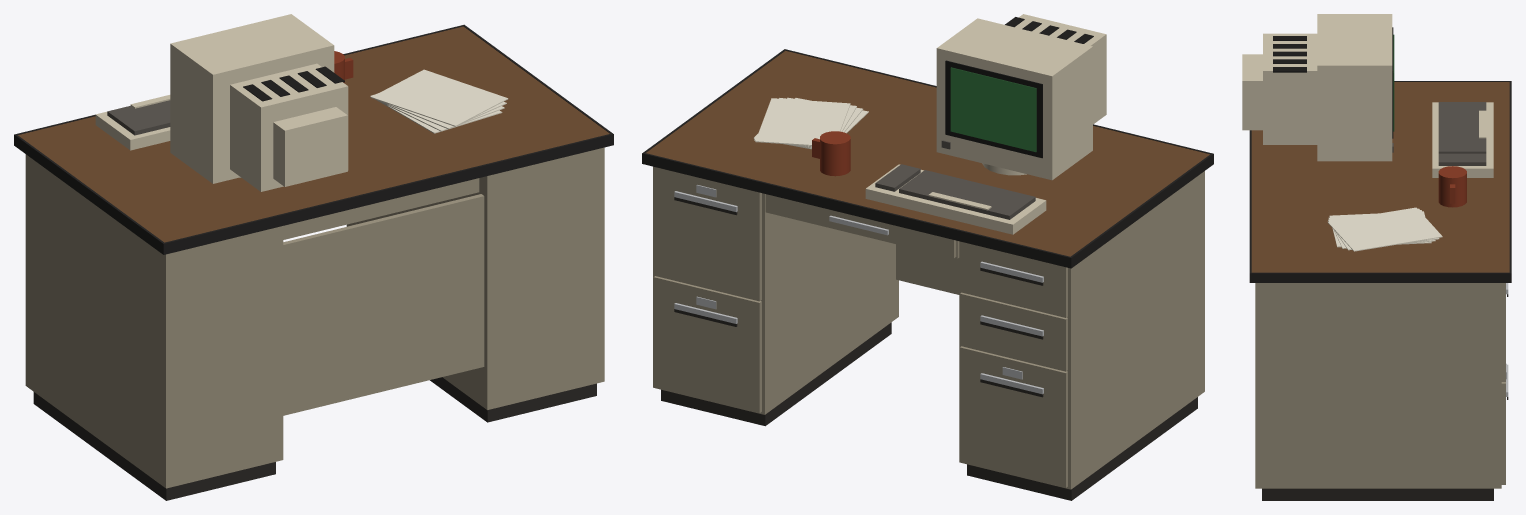
Rendered from SM_Desk80s_Terminal.glb.
3 views of the same model, side by side, from view 1: azimuth 30°, elevation 25°; view 2: azimuth 150°, elevation 25°; view 3: azimuth 270°, elevation 25° (orthographic). The views are drawn at different scales.
Parts seen in each view (by area): view 1: SM_Desk80s_Terminal; view 2: SM_Desk80s_Terminal; view 3: SM_Desk80s_Terminal.
Part boxes in pixels (box(x1,y1,x2,y2)): SM_Desk80s_Terminal: box(14, 14, 613, 500); SM_Desk80s_Terminal: box(642, 14, 1213, 500); SM_Desk80s_Terminal: box(1242, 14, 1511, 500).
Size of the model in its own units: 1.77 by 1.44 by 1.04.
